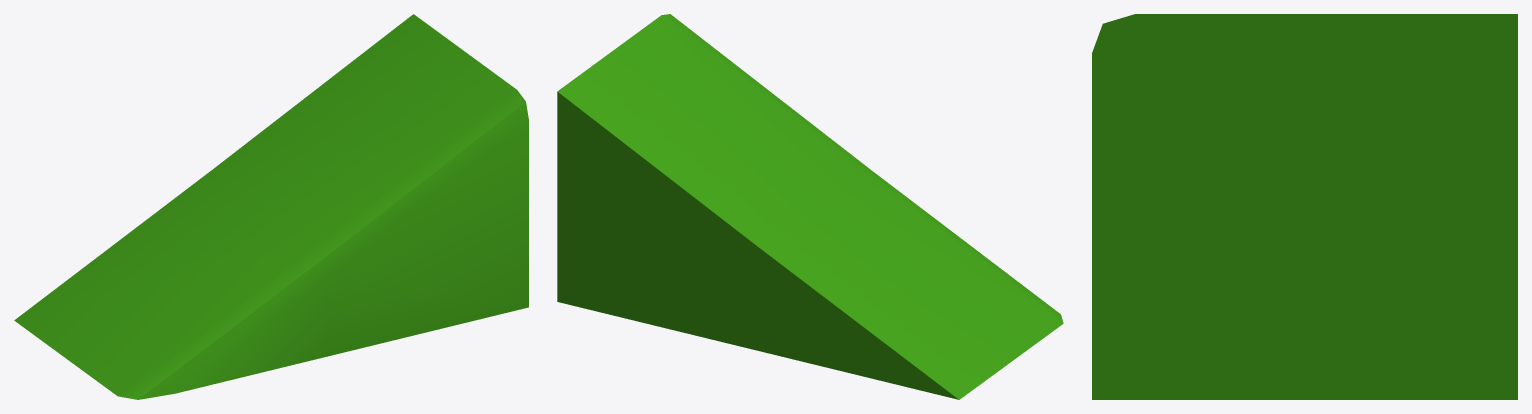
The model's file is TwoBlockSlopeRight.fbx.
The picture shows the model from 3 angles, left to right: view 1: azimuth 30°, elevation 25°; view 2: azimuth 150°, elevation 25°; view 3: azimuth 270°, elevation 25°; orthographic projection. The views are drawn at different scales.
Parts seen in each view (by area): view 1: TwoBlockSlopeRight; view 2: TwoBlockSlopeRight; view 3: TwoBlockSlopeRight.
Part boxes in pixels (left/top/right/bottom): TwoBlockSlopeRight: left=14, top=14, right=528, bottom=399; TwoBlockSlopeRight: left=557, top=14, right=1063, bottom=399; TwoBlockSlopeRight: left=1092, top=14, right=1517, bottom=399.
Bounding box in the file's own units: 79 × 39.5 × 39.5.
